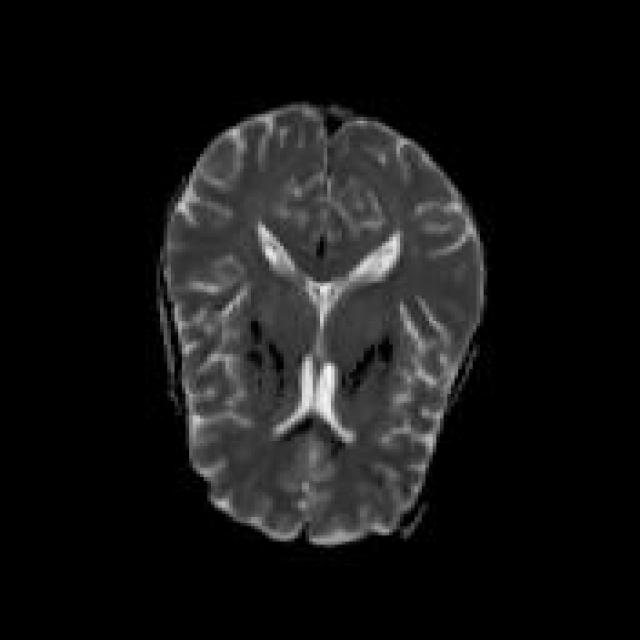CONTROL: (153, 98, 487, 544)
